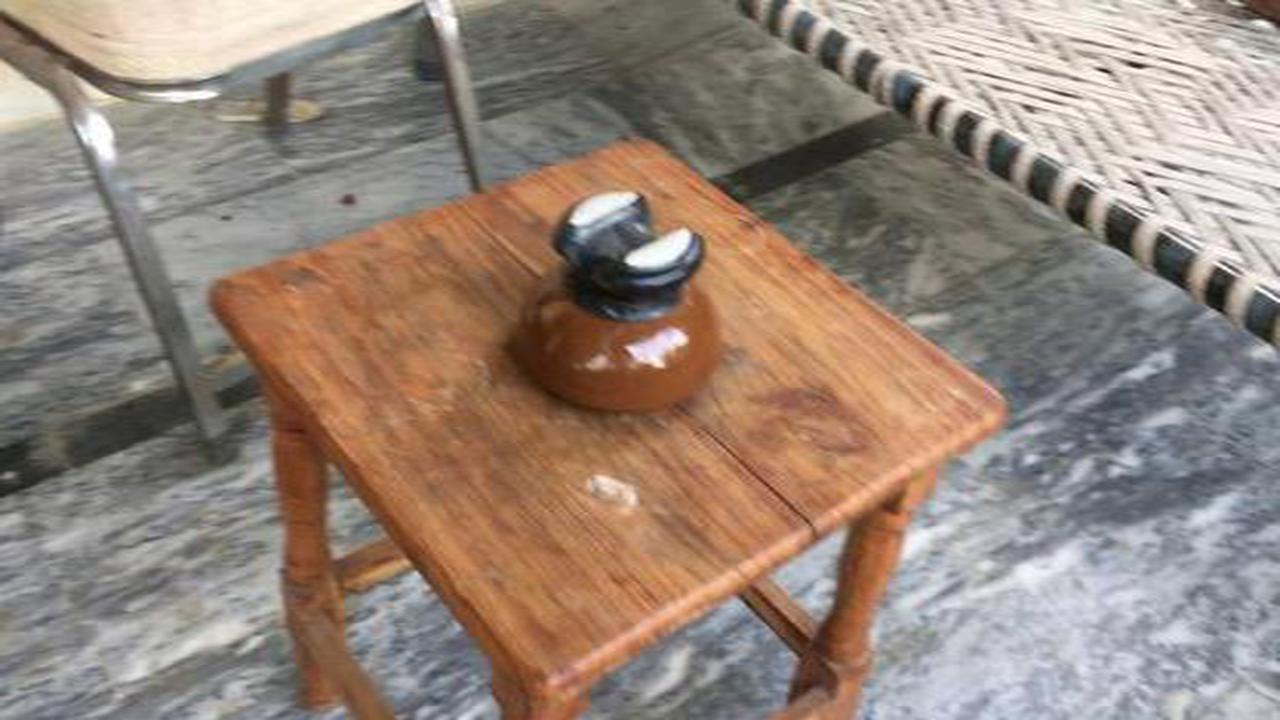insulator_pin: (484, 174, 751, 438)
